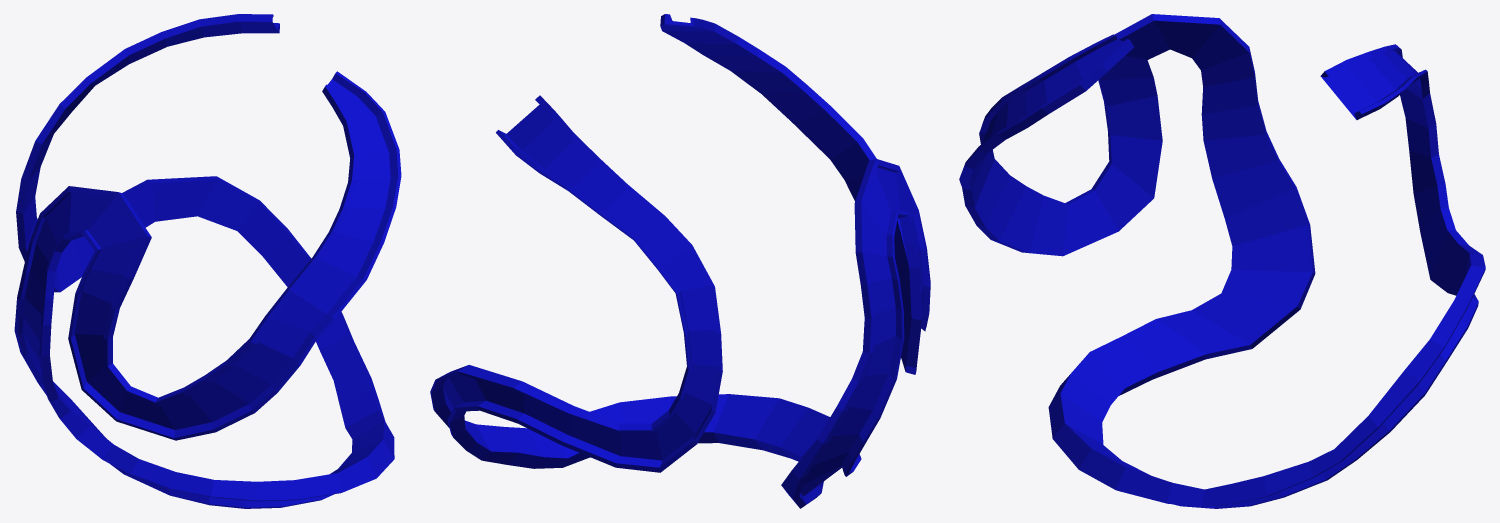
Rendered from river_border_SPHERICAL.obj.
The picture shows the model from 3 angles, left to right: view 1: azimuth 30°, elevation 25°; view 2: azimuth 150°, elevation 25°; view 3: azimuth 270°, elevation 25°; orthographic projection. The views are drawn at different scales.
Parts seen in each view (by area): view 1: Plane; view 2: Plane; view 3: Plane.
Boxes of the visible parts, box(x1,y1,x2,y2) form: Plane: box(14, 14, 401, 508); Plane: box(430, 14, 930, 508); Plane: box(959, 14, 1485, 508).
Size of the model in its own units: 34.71 by 37.5 by 40.55.
